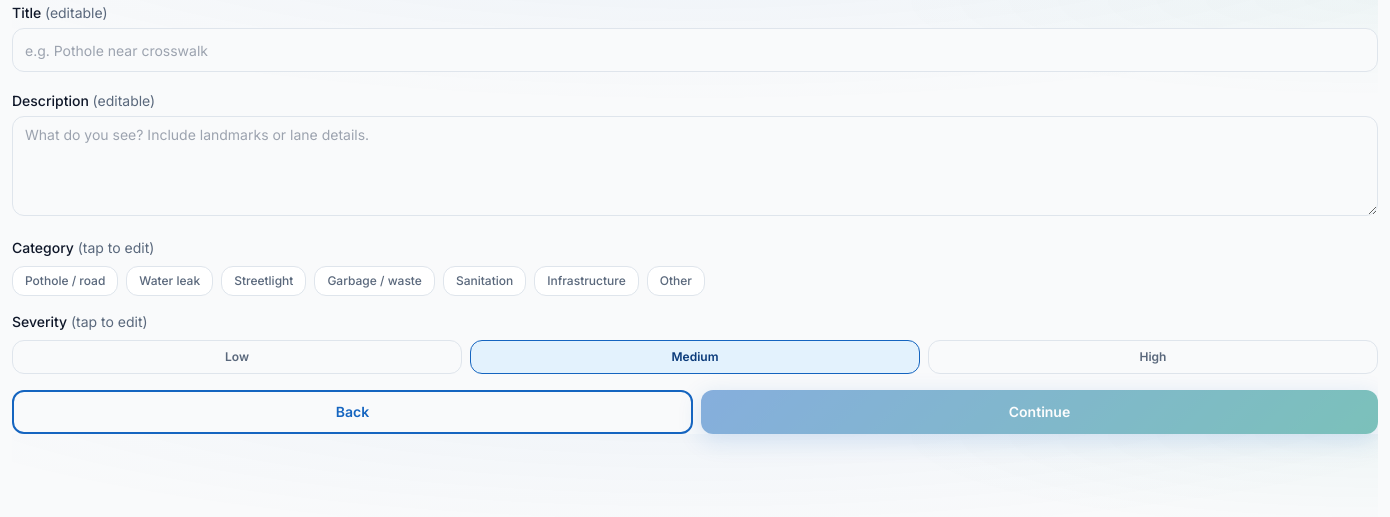
Scenario: ReportDetailsStep › C35: title and description validation
Type "ab" into the field with test id "report-title-input".
click(695, 50); type("ab")  # box [12, 28, 1378, 72]
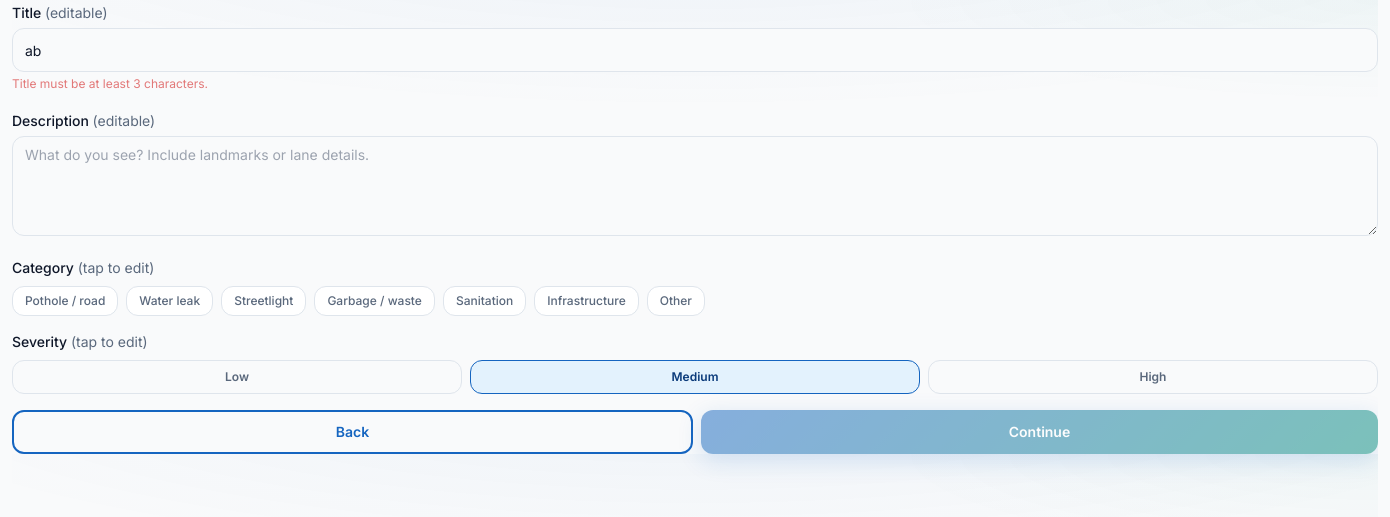
Type "short" into the text box with test id "report-description-input".
click(695, 186); type("short")  # box [12, 136, 1378, 236]
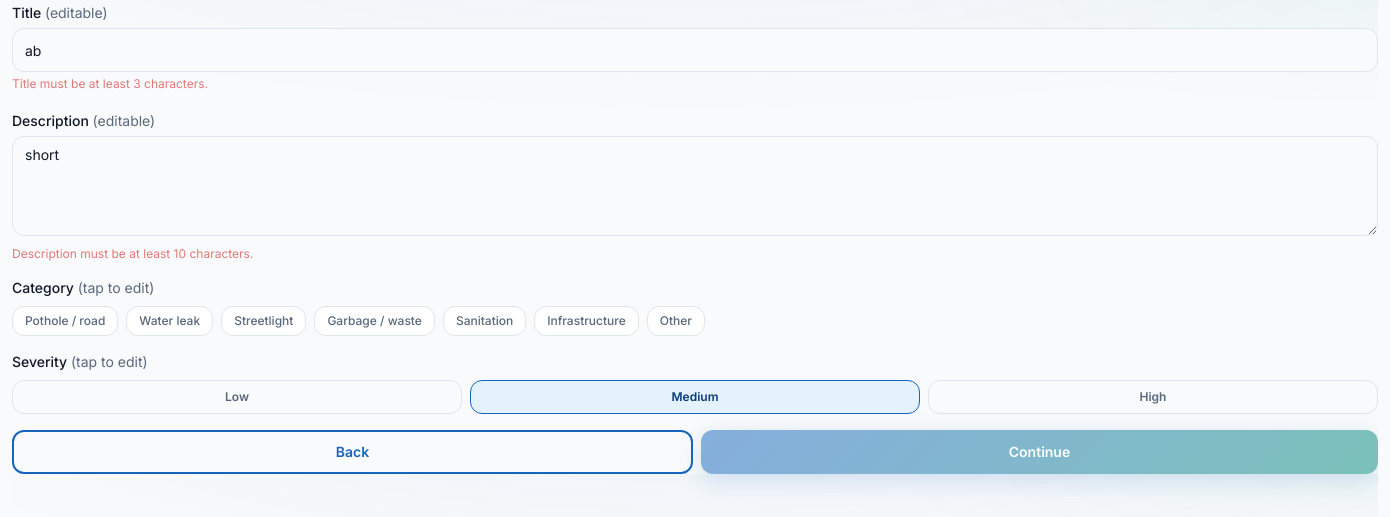
Expected: the button "Continue" is disabled, [701, 430, 1378, 474]
Expected: the text "Title must be at least 3 characters." is shown, [12, 76, 208, 91]
Expected: the text "Description must be at least 10 characters." is shown, [12, 246, 253, 261]
